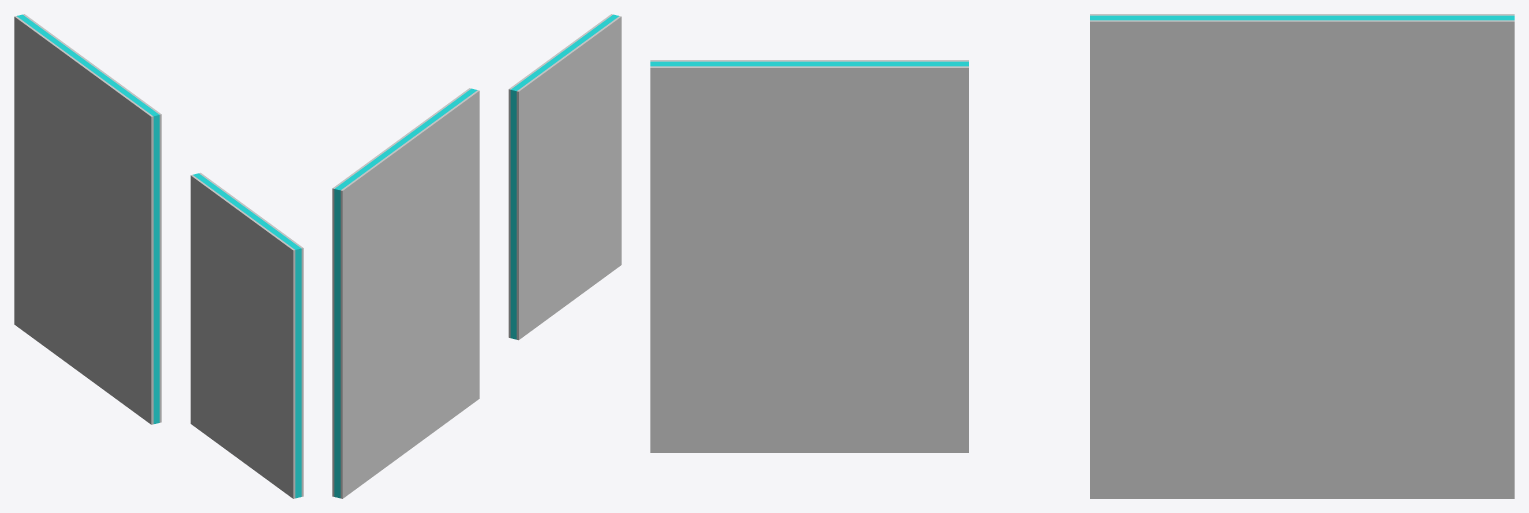
File: Cartas_Rectas.fbx
3 views of the same model, side by side, from view 1: azimuth 30°, elevation 25°; view 2: azimuth 150°, elevation 25°; view 3: azimuth 270°, elevation 25° (orthographic). The views are drawn at different scales.
Visible parts, largest first — view 1: Cube.001, Cube; view 2: Cube.001, Cube; view 3: Cube.001, Cube.
Part boxes in pixels (x1,y1,x2,y2): Cube.001: (14, 14, 161, 424); Cube: (190, 172, 303, 498); Cube.001: (332, 88, 479, 498); Cube: (508, 14, 621, 340); Cube.001: (1090, 14, 1514, 498); Cube: (650, 60, 968, 452).
Bounding box in the file's own units: 0.1 × 2.85 × 4.68.
